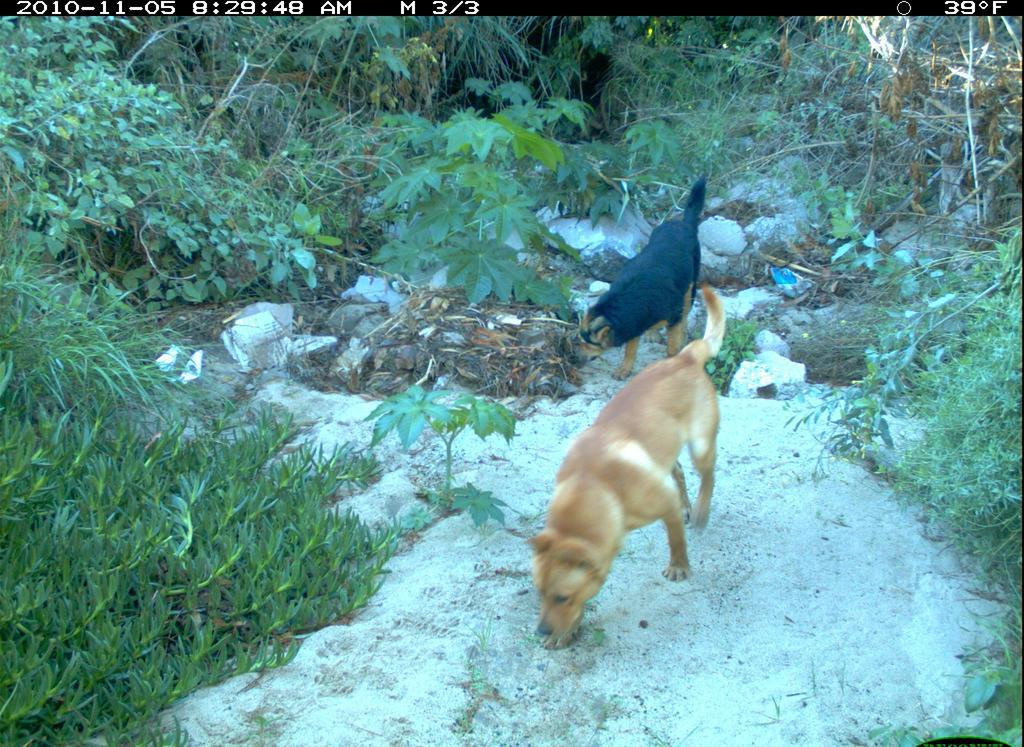dog: (532, 287, 735, 667), (578, 172, 716, 376)
